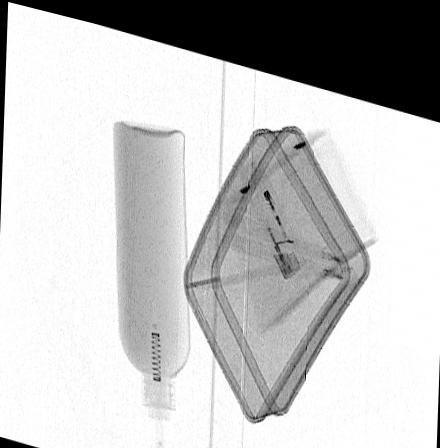Lighter: (248, 174, 303, 265)
